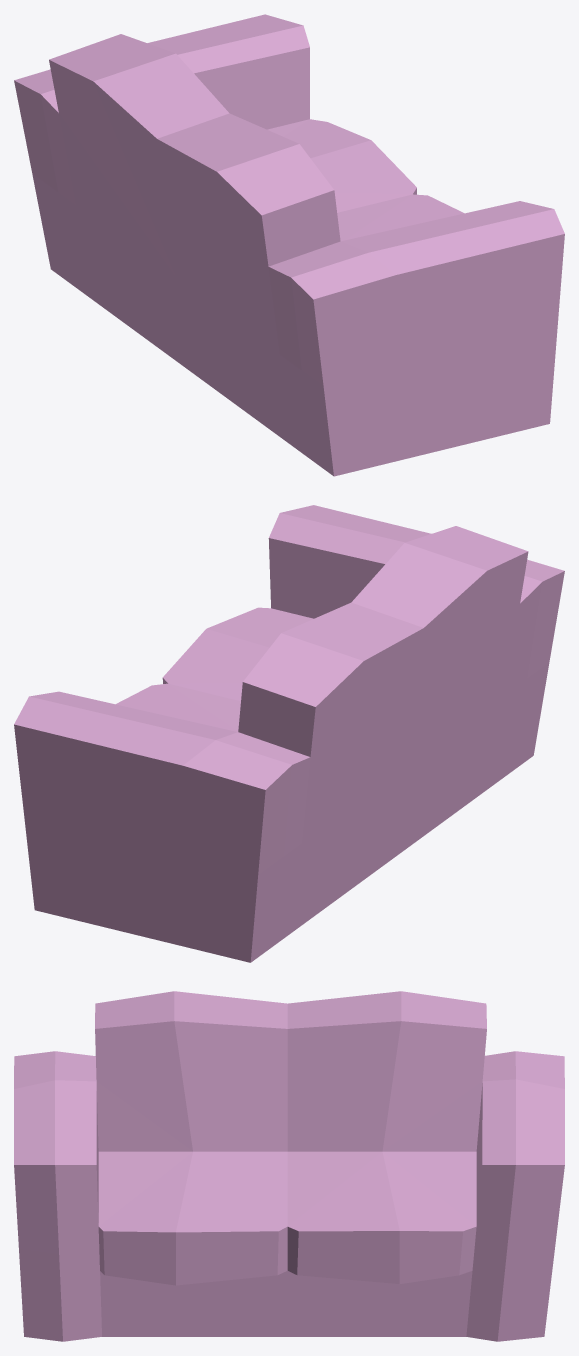
Rendered from Couch_Mesh.fbx.
3 views of the same model, one above another, from view 1: azimuth 30°, elevation 25°; view 2: azimuth 150°, elevation 25°; view 3: azimuth 270°, elevation 25° (orthographic). The views are drawn at different scales.
Visible parts, largest first — view 1: Couch; view 2: Couch; view 3: Couch.
Part boxes in pixels (x1,y1,x2,y2): Couch: (14, 14, 564, 476); Couch: (14, 505, 564, 962); Couch: (14, 991, 564, 1341).
Size of the model in its own units: 5.29 by 4.71 by 9.8.
